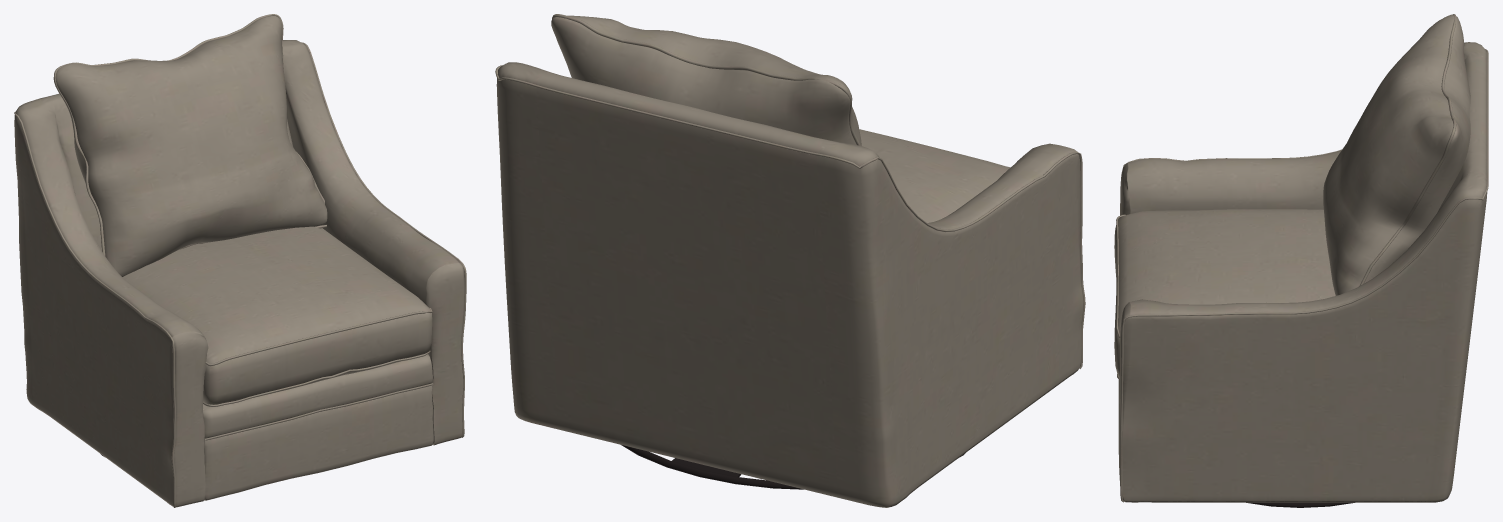
File: abo-B075X52BM1.glb
3 views of the same model, side by side, from view 1: azimuth 30°, elevation 25°; view 2: azimuth 150°, elevation 25°; view 3: azimuth 270°, elevation 25° (orthographic). The views are drawn at different scales.
Size of the model in its own units: 0.876 by 0.942 by 0.876.
Materials: 1 (1 with a texture image).
